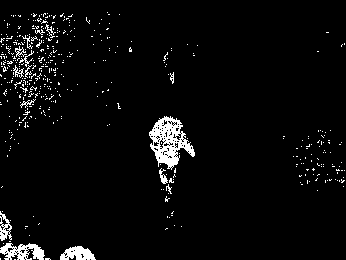person: (144, 117, 196, 203)
